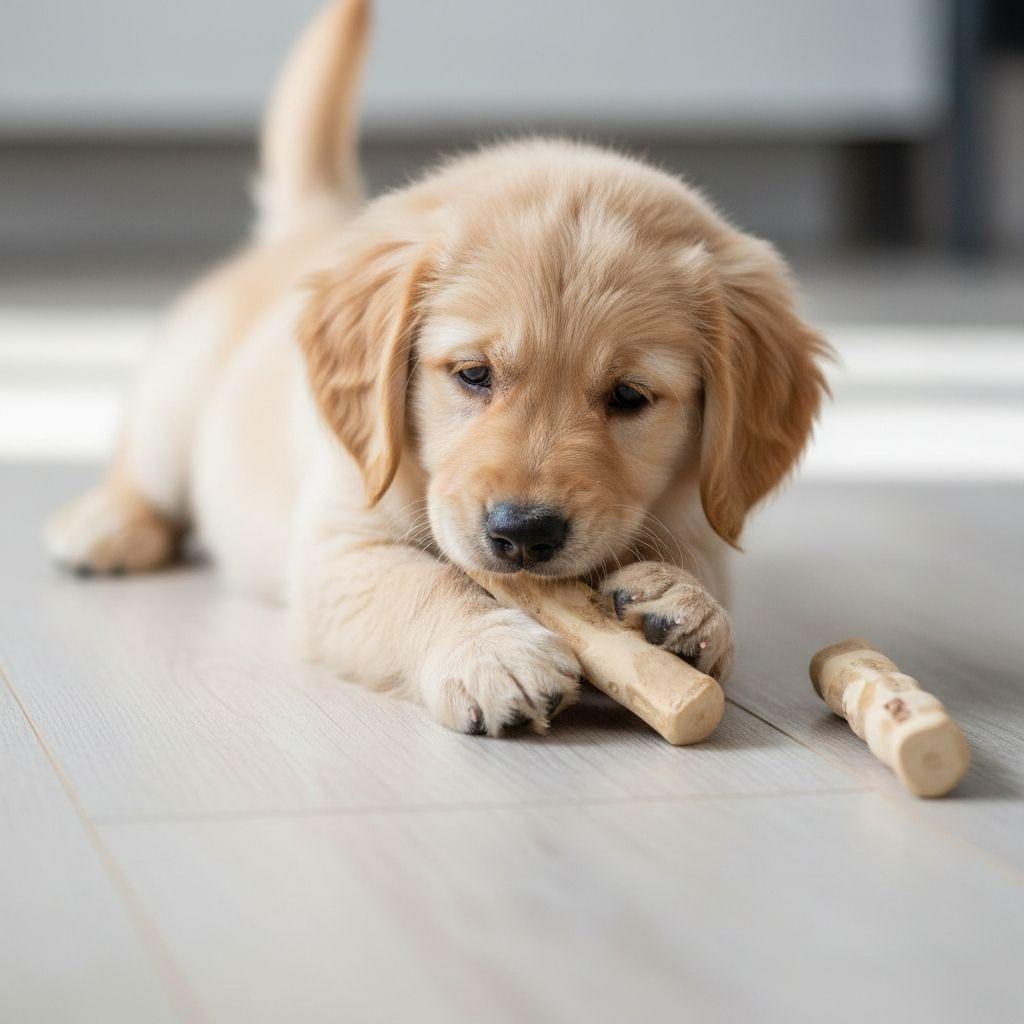puppy-dog: (36, 0, 842, 742)
